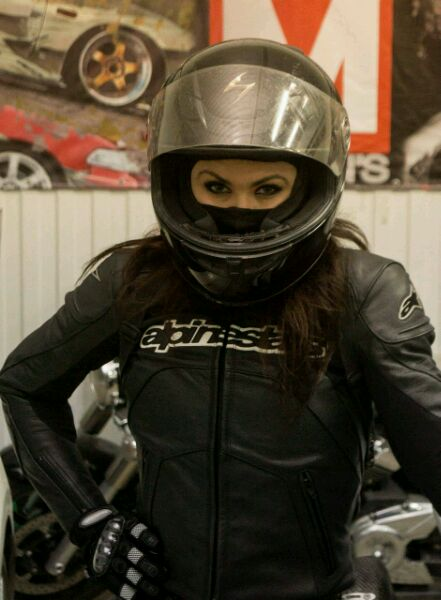face_mask: (182, 123, 304, 283)
